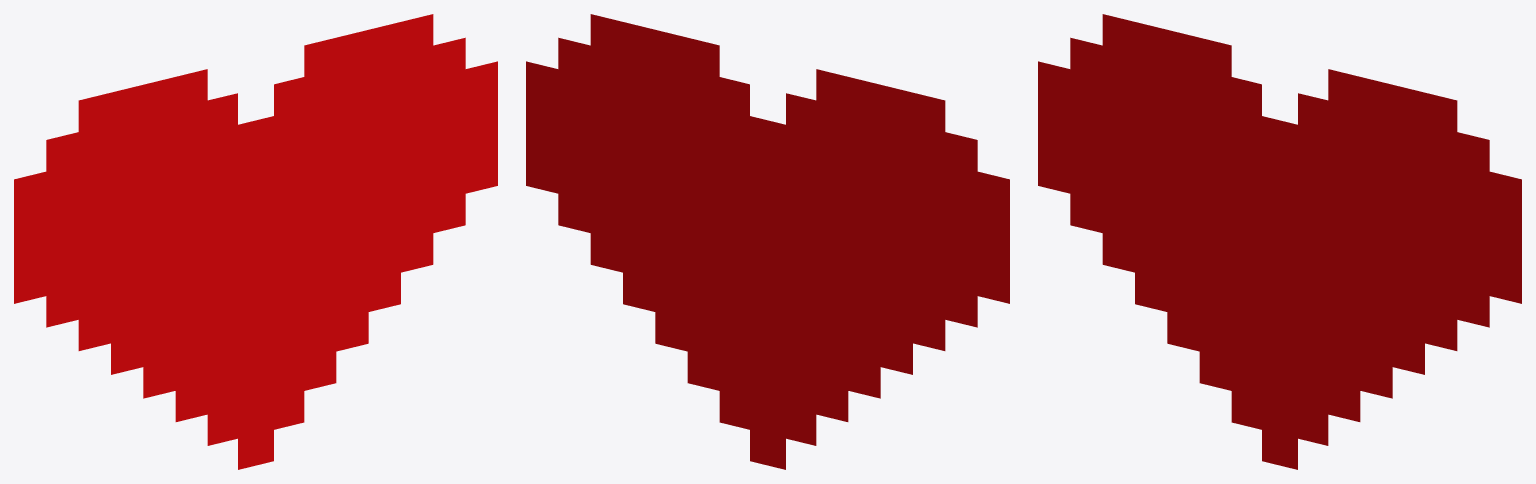
Rendered from 1Life.fbx.
3 renders of one model, left to right at view 1: azimuth 30°, elevation 25°; view 2: azimuth 150°, elevation 25°; view 3: azimuth 330°, elevation 25°, orthographic.
Parts seen in each view (by area): view 1: 1Life; view 2: 1Life; view 3: 1Life.
Part boxes in pixels (<box>): 1Life: <box>14,14,497,469</box>; 1Life: <box>526,14,1009,469</box>; 1Life: <box>1038,14,1521,469</box>.
Size of the model in its own units: 9.51 by 7.67 by 1.25e-06.
